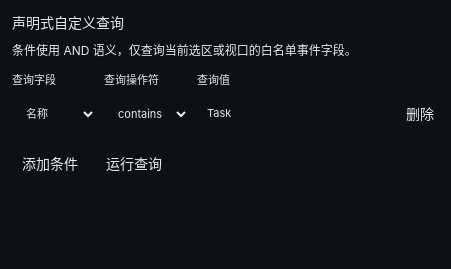
CustomQueryPanel › shows server limitations and clears results when the query changes
Click the button with aria-label "运行自定义查询": [134, 164] box [96, 144, 172, 184]
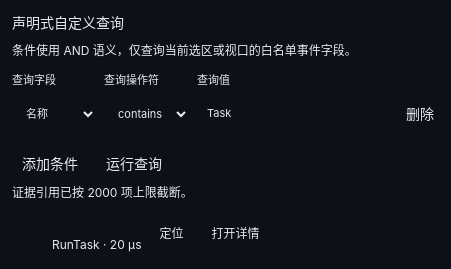
expect the text "证据引用已按 2000 项上限截断。" is shown: met, box [12, 185, 193, 200]
Replace the text in the field labelled "查询值" with "Layout": [292, 114] box [197, 94, 388, 134]
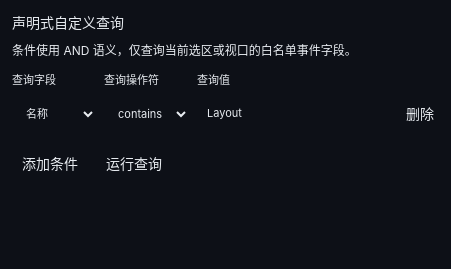
expect the text "RunTask" is gone: met
